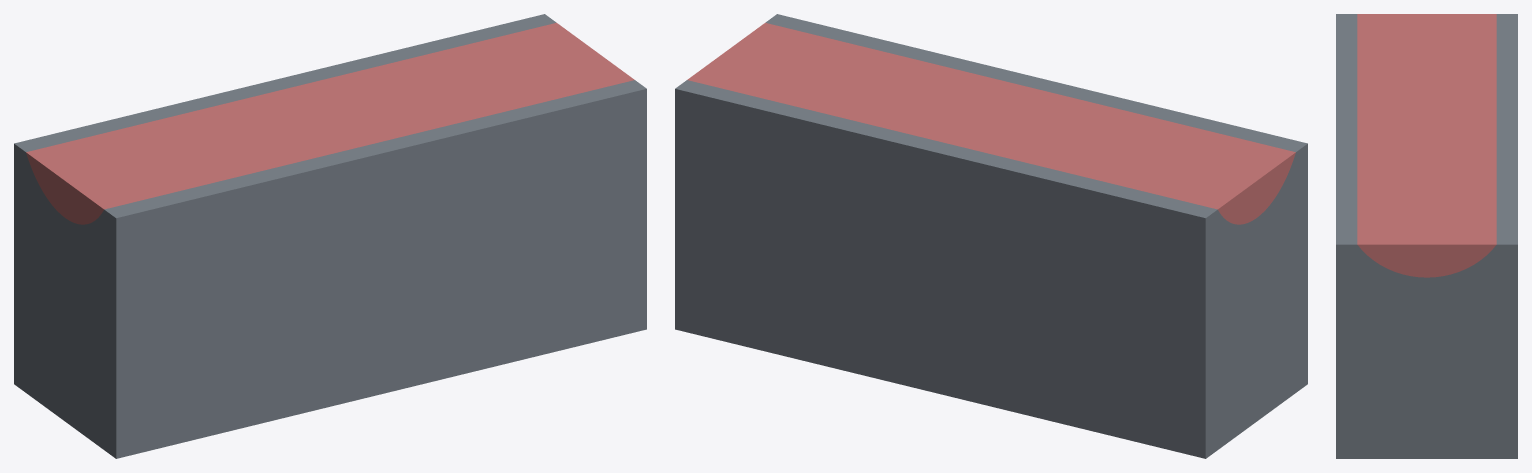
File: step_02.glb
3 renders of one model, left to right at view 1: azimuth 30°, elevation 25°; view 2: azimuth 150°, elevation 25°; view 3: azimuth 270°, elevation 25°, orthographic. The views are drawn at different scales.
Parts seen in each view (by area): view 1: part__actuator motor and gearbox, removed__actuator motor and gearbox; view 2: part__actuator motor and gearbox, removed__actuator motor and gearbox; view 3: part__actuator motor and gearbox, removed__actuator motor and gearbox.
Part boxes in pixels (left/top/right/bottom): part__actuator motor and gearbox: left=14, top=14, right=646, bottom=458; removed__actuator motor and gearbox: left=26, top=22, right=634, bottom=224; part__actuator motor and gearbox: left=675, top=14, right=1307, bottom=458; removed__actuator motor and gearbox: left=687, top=22, right=1295, bottom=224; part__actuator motor and gearbox: left=1336, top=14, right=1517, bottom=458; removed__actuator motor and gearbox: left=1357, top=14, right=1496, bottom=277.
Size of the model in its own units: 450 by 195 by 150.
